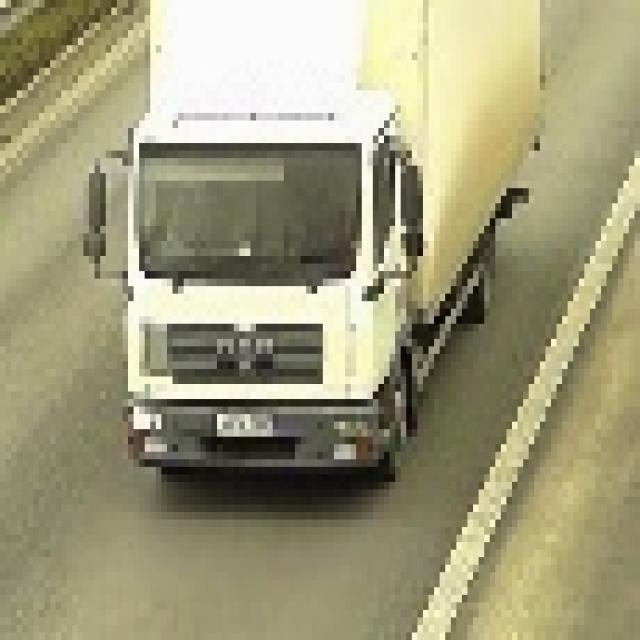truck: (84, 1, 535, 490)
